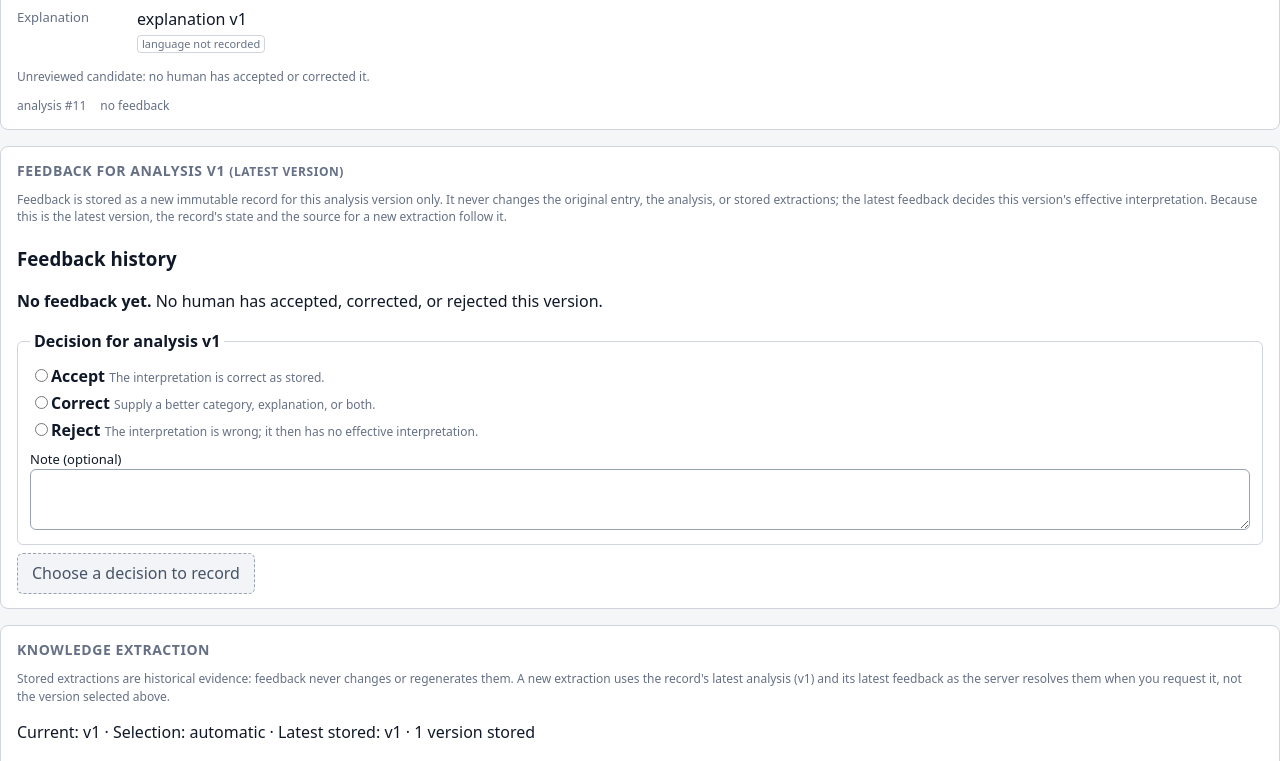
Record feedback decisions › accepts the latest analysis, then re-reads history, effective interpretation, and the row
(page scrolled)
Expected: the text "No feedback yet." is shown, 17,290 -> 152,312
Expected: the button "Choose a decision to record" is disabled, 17,553 -> 255,594
Click the radio button labelled "Accept The interpretation is correct as stored.". click: (42, 375)
box: 35,369 -> 48,382
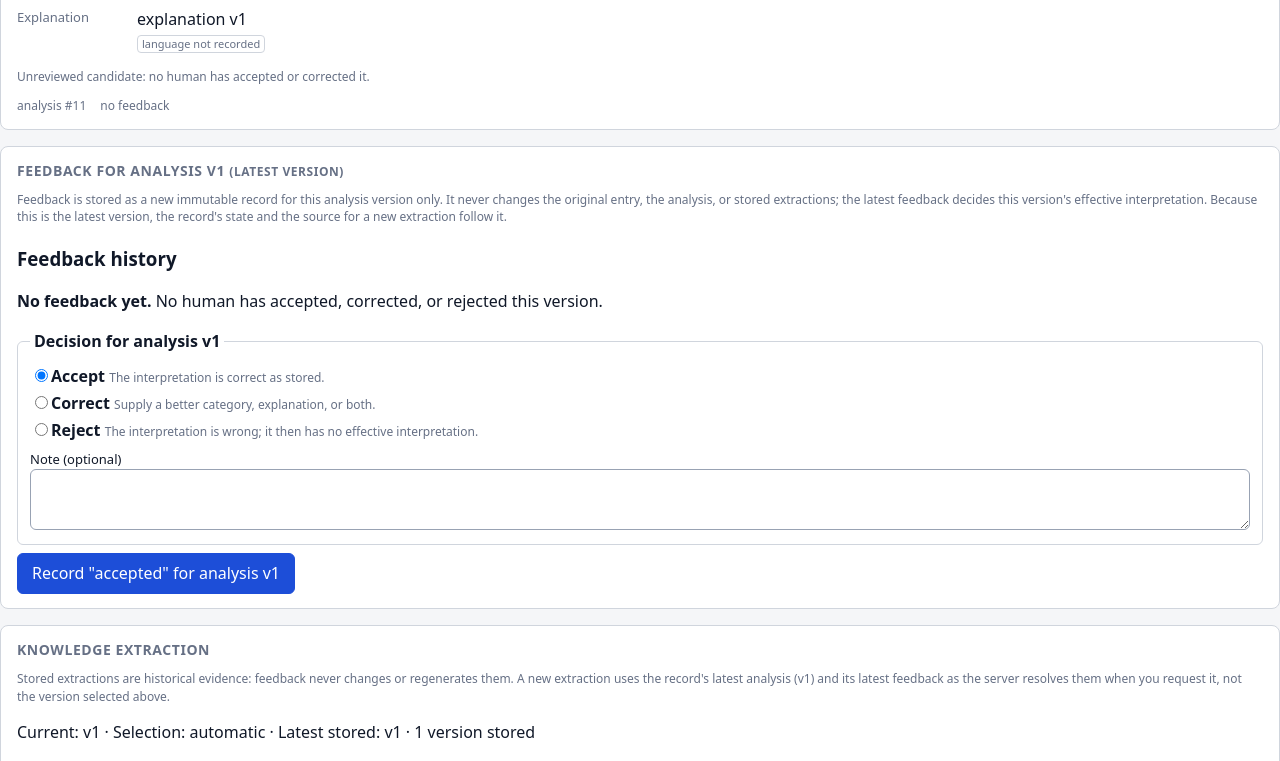
Click the button "Record \"accepted\" for analysis v1". click: (156, 573)
box: 17,553 -> 295,594
(page scrolled)
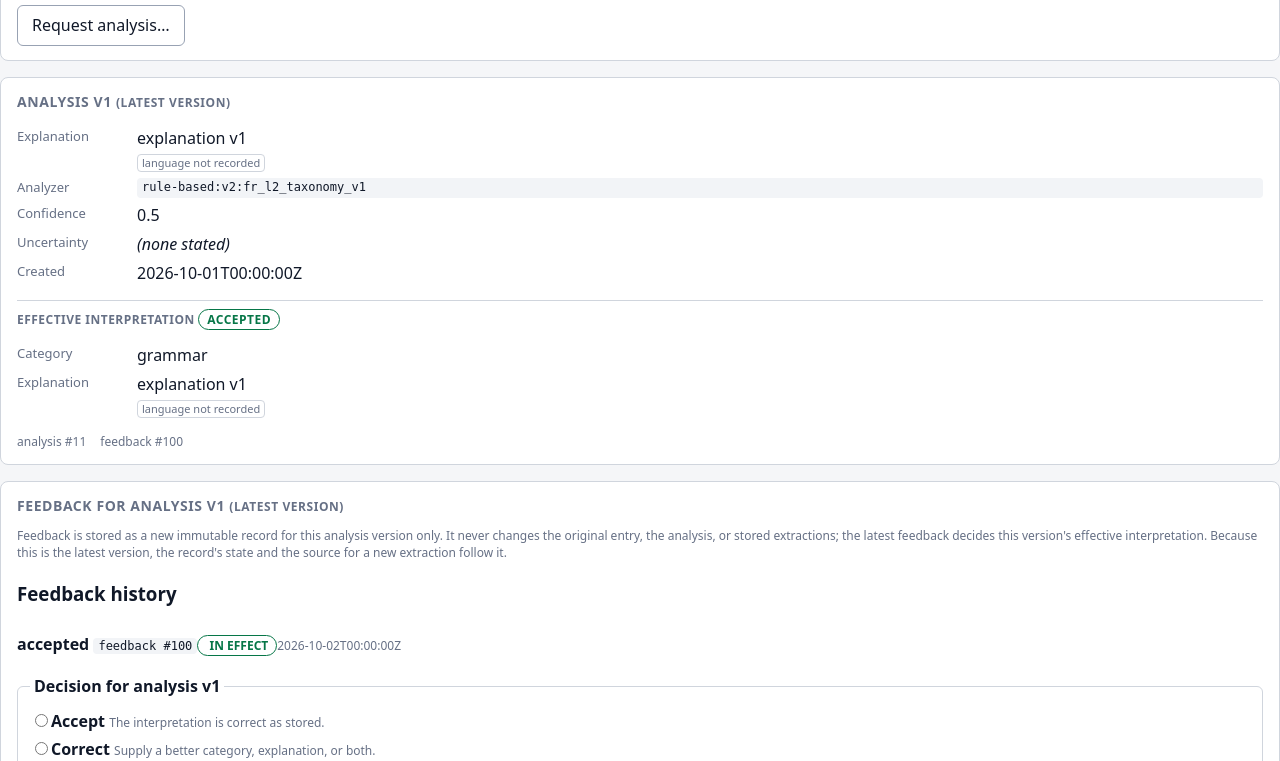
Expected: the element labelled "Effective interpretation" shows "accepted", 207,311 -> 271,328
Now the list named "Feedback history (oldest first)" shows "accepted feedback #100 in effect", box 17,633 -> 401,656
